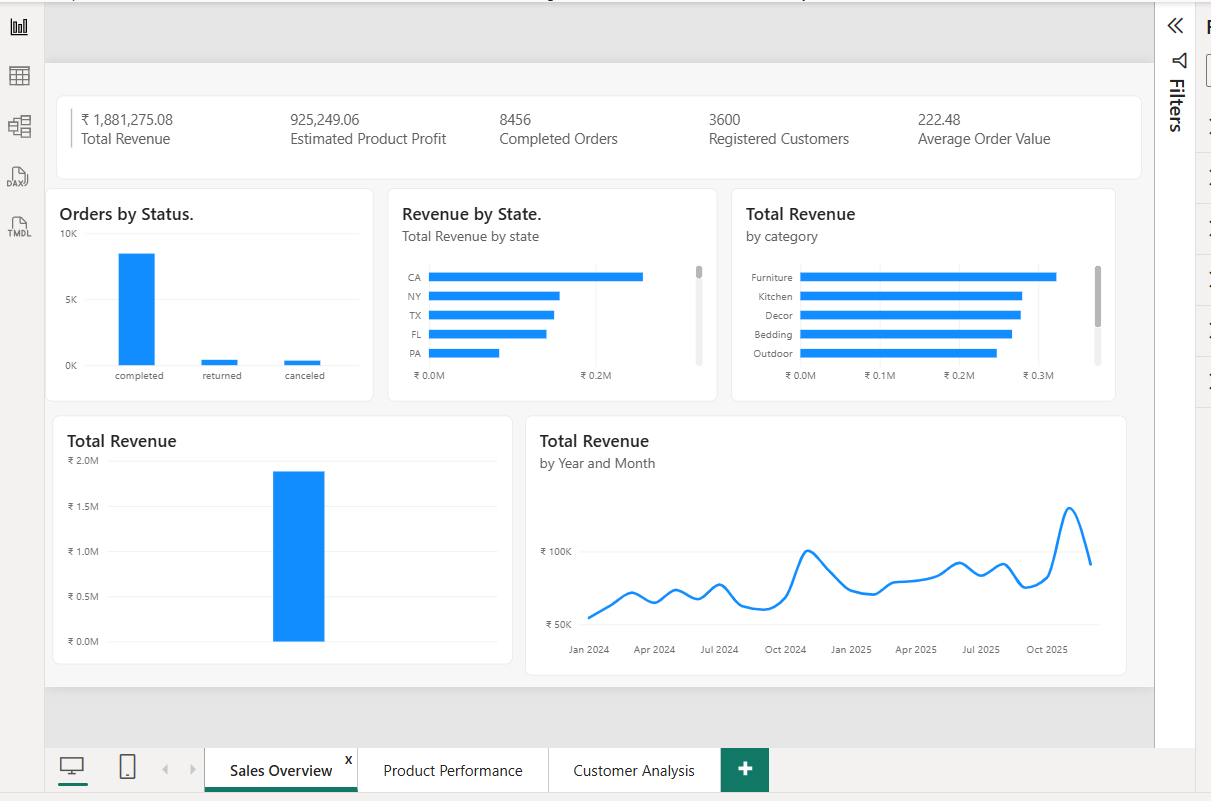

What the dashboard file says about the page in this screenshot:
{"tool":"powerbi","page":{"name":"Sales Overview","canvas":[1280,720],"ordinal":0},"visuals":[{"type":"multiRowCard","fields":{"Values":["orders_cleaned.Total Revenue","orders_cleaned.Total Profit","orders_cleaned.Completed Orders","orders_cleaned.Total Customers","orders_cleaned.Average Order Value"]},"box":[12.8,37,1253,96.7],"z":0},{"type":"lineChart","fields":{"Category":["orders_cleaned.order_date.Variation.Date Hierarchy.Year","orders_cleaned.order_date.Variation.Date Hierarchy.Month"],"Y":["orders_cleaned.Total Revenue"]},"box":[554.7,406.8,694,300.1],"z":1000},{"type":"clusteredBarChart","fields":{"Category":["products.category"],"Y":["orders_cleaned.Total Revenue"]},"box":[792.1,144.3,444.4,246.7],"z":2000},{"type":"clusteredColumnChart","fields":{"Y":["orders_cleaned.Total Revenue"]},"box":[8.7,406.9,530.9,287.1],"z":3000},{"type":"clusteredColumnChart","title":"Orders by Status.","fields":{"Category":["orders_cleaned.status"],"Y":["orders_cleaned.Total Orders"]},"box":[0,144.3,379.4,246.7],"z":4000},{"type":"clusteredBarChart","title":"Revenue by State.","fields":{"Category":["customers.state"],"Y":["orders_cleaned.Total Revenue"]},"box":[395.3,144.3,380.9,246.7],"z":5000}]}

Visuals, with their boxes on the page's 1280x720 design canvas (x1, y1, x2, y2). These are canvas units, not pixel positions in the 1211x801 screenshot, which may show the page scaled, cropped or inside an application window:
multiRowCard - orders_cleaned.Total Revenue x orders_cleaned.Total Profit: (left=13, top=37, right=1266, bottom=134)
lineChart - orders_cleaned.order_date.Variation.Date Hierarchy.Year x orders_cleaned.order_date.Variation.Date Hierarchy.Month: (left=555, top=407, right=1249, bottom=707)
clusteredBarChart - products.category x orders_cleaned.Total Revenue: (left=792, top=144, right=1236, bottom=391)
clusteredColumnChart - orders_cleaned.Total Revenue: (left=9, top=407, right=540, bottom=694)
"Orders by Status." clusteredColumnChart: (left=0, top=144, right=379, bottom=391)
"Revenue by State." clusteredBarChart: (left=395, top=144, right=776, bottom=391)
